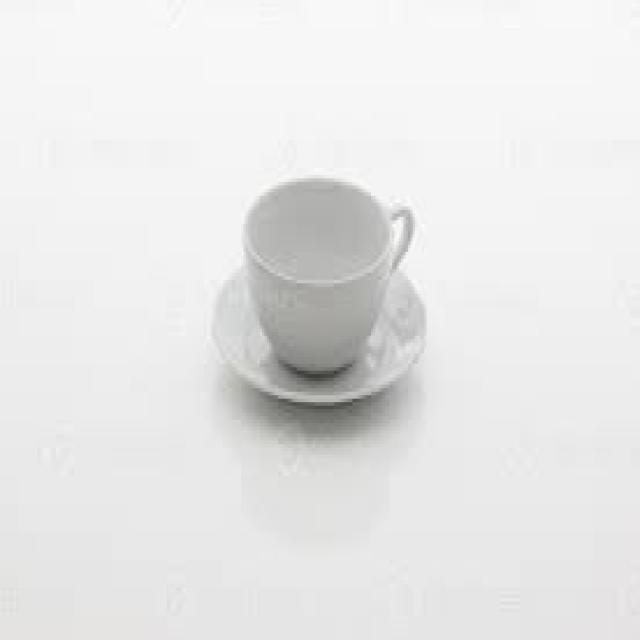taza: (228, 164, 416, 390)
